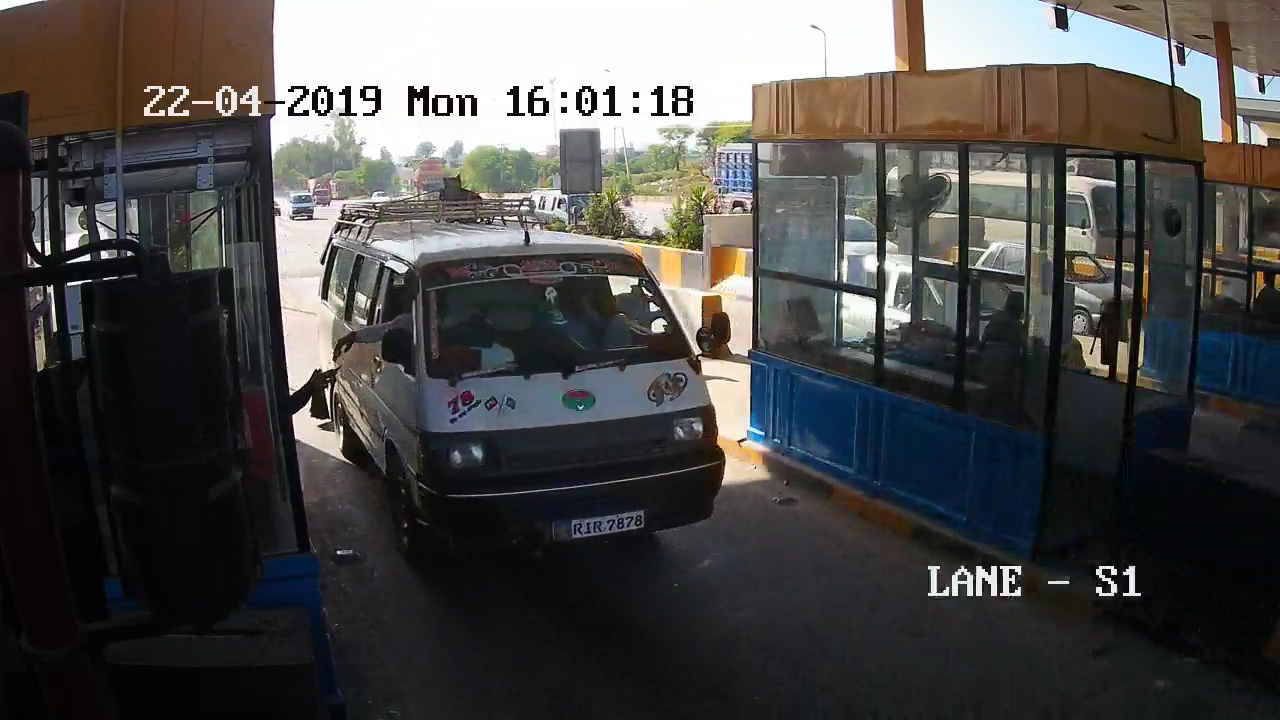car: (310, 189, 740, 594)
